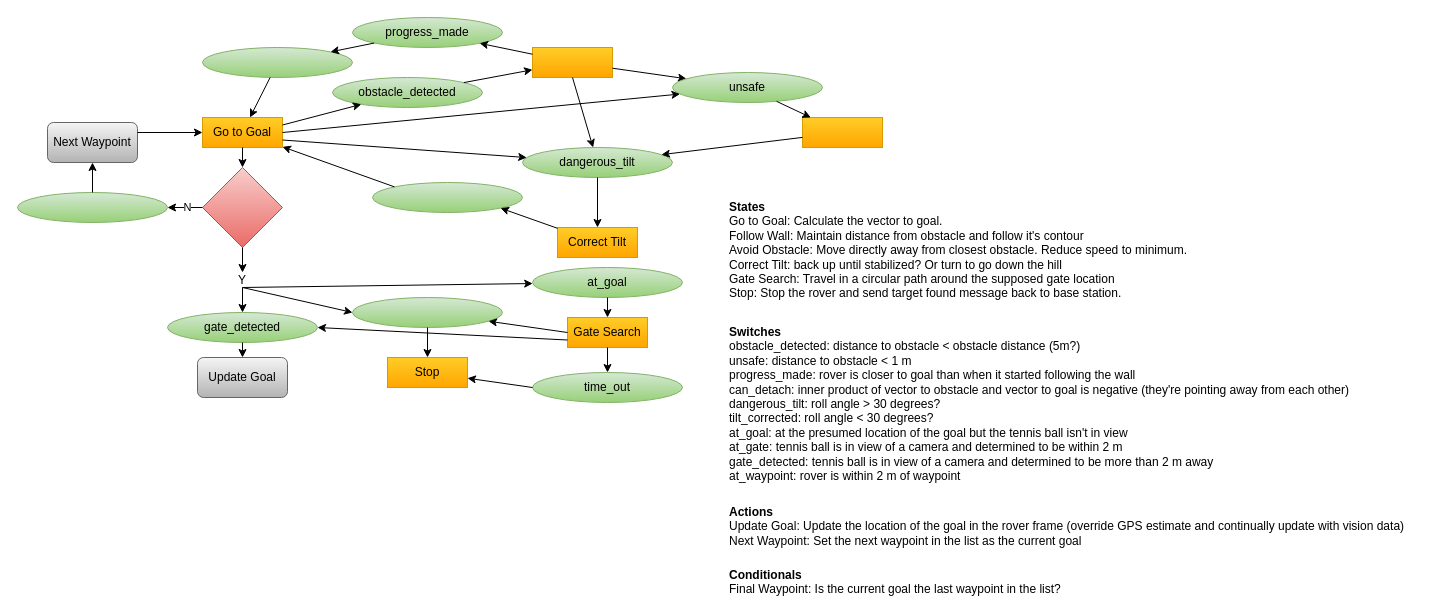
This 1445x615 diagram has some shape labels left out. Each missing label, with the box of its shape:
at_gate: (352, 296, 502, 328)
at_waypoint: (16, 192, 168, 222)
Avoid Obstacle: (802, 116, 882, 148)
can_detach: (202, 46, 352, 78)
Final Waypoint: (202, 166, 282, 248)
Follow Wall: (532, 46, 612, 78)
tilt_corrected: (372, 182, 522, 212)
